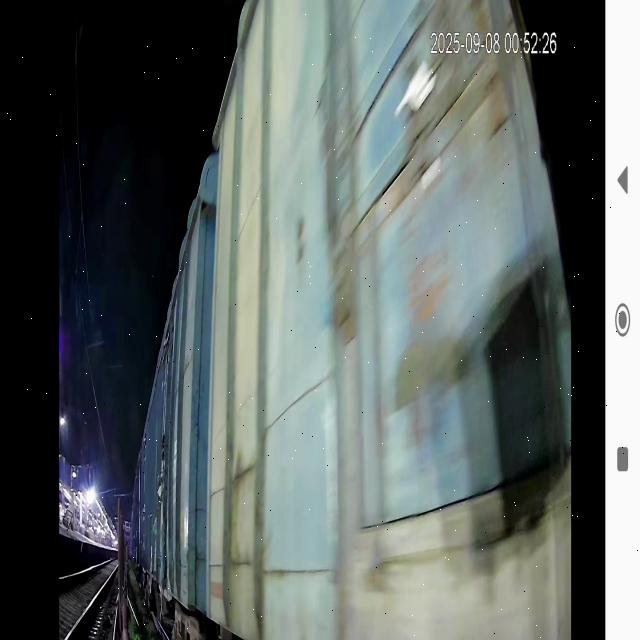coach: (213, 3, 552, 640)
